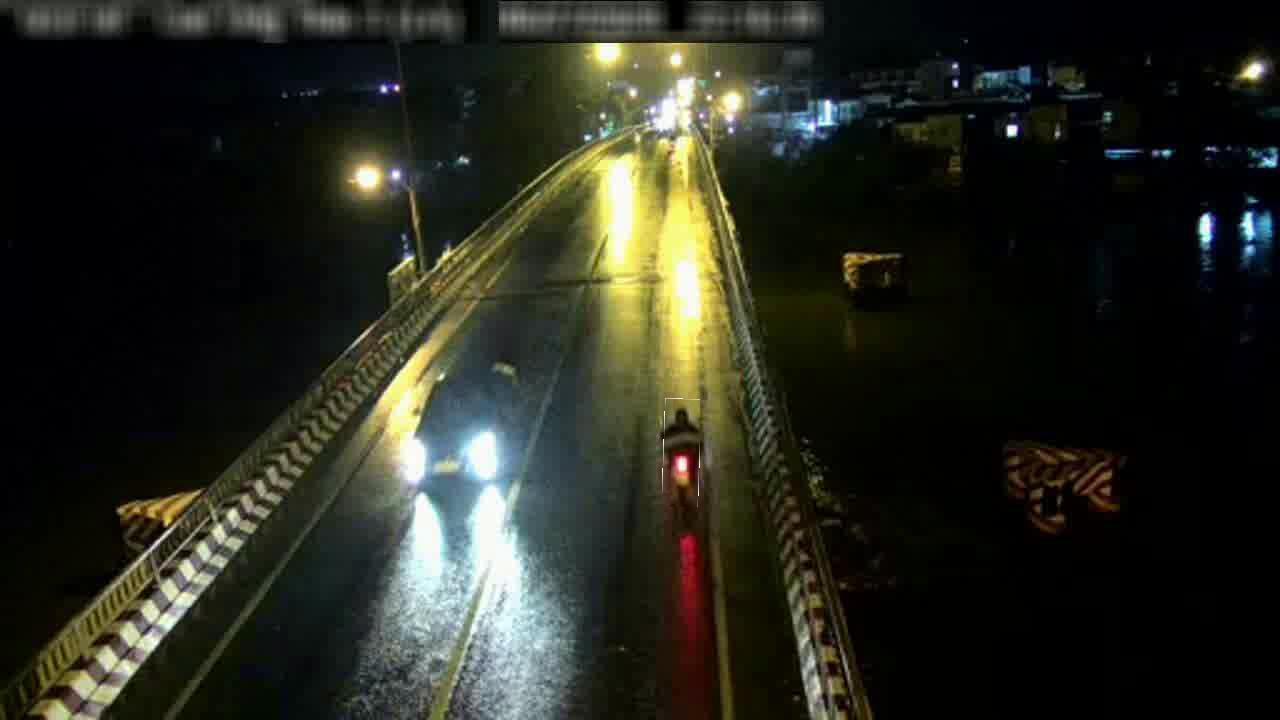motorbike: (663, 399, 701, 508)
